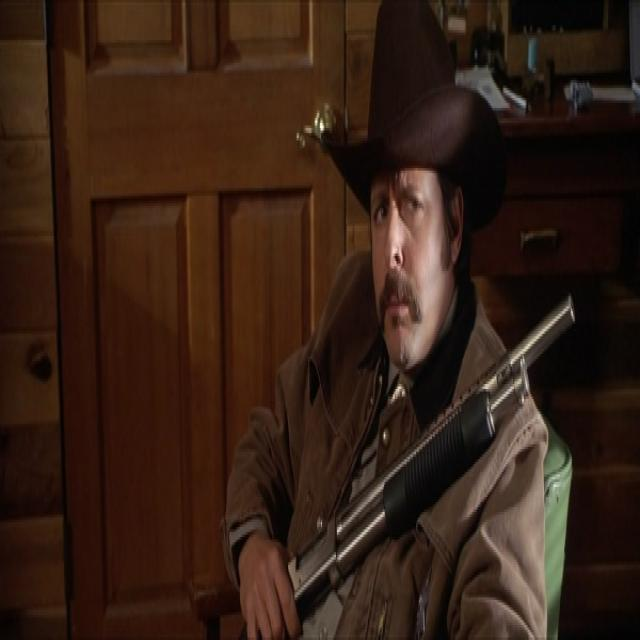rifle: (287, 290, 579, 614)
